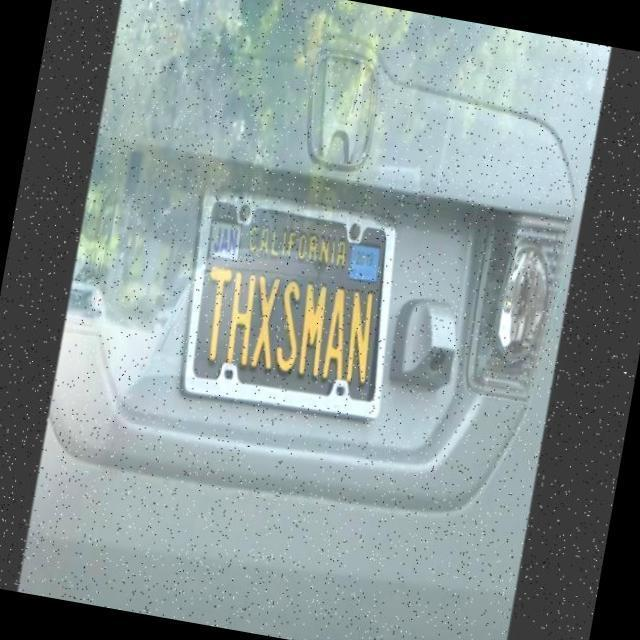License Plate: (157, 164, 423, 444)
